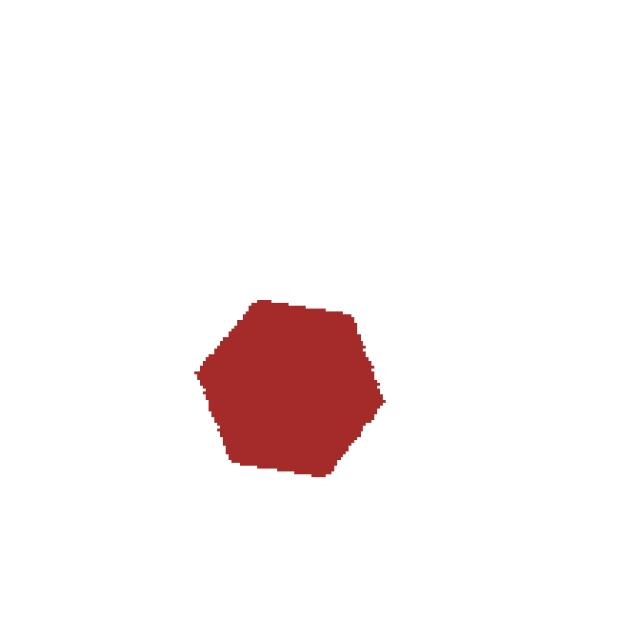Hexagon: (182, 264, 448, 530)
